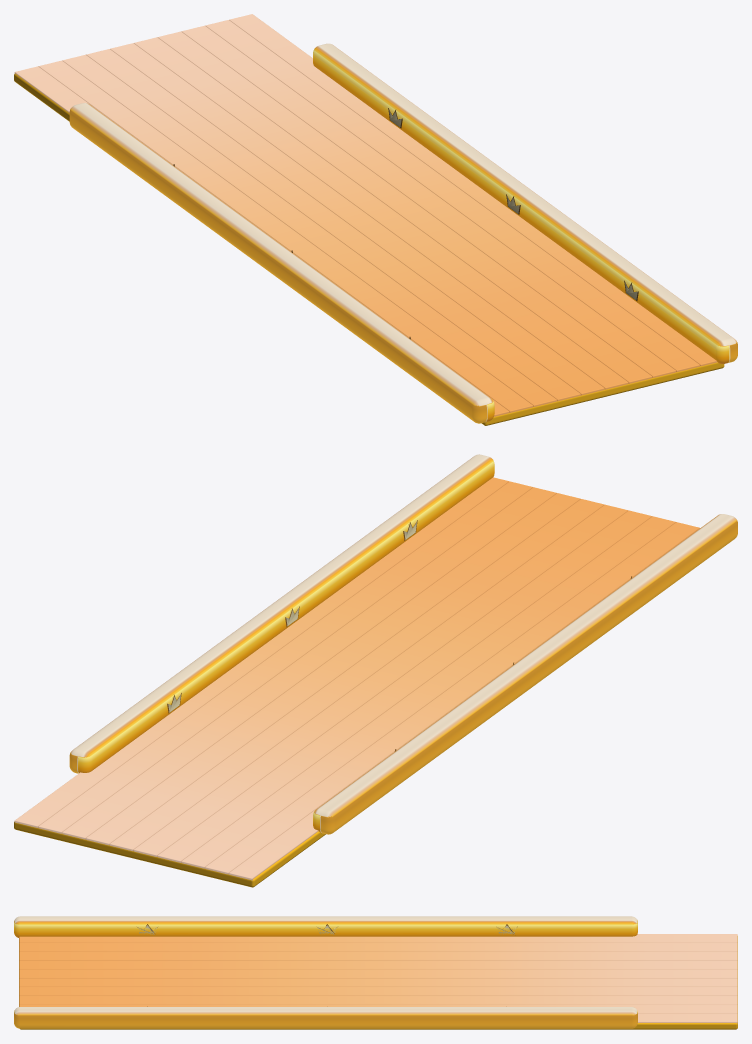
File: platform.glb
3 views of the same model, one above another, from view 1: azimuth 30°, elevation 25°; view 2: azimuth 150°, elevation 25°; view 3: azimuth 270°, elevation 25° (orthographic). The views are drawn at different scales.
Parts seen in each view (by area): view 1: Original_Gold_Ivory_Rail_-1, Original_Gold_Ivory_Rail_1, Artist_Wood_Plank_7, Artist_Wood_Plank_4, Artist_Wood_Plank_5, Artist_Wood_Plank_9, Artist_Wood_Plank_2, Artist_Wood_Plank_6, Artist_Wood_Plank_8, Artist_Wood_Plank_3, Artist_Wood_Plank_10, Deck_Understructure (+1 smaller); view 2: Original_Gold_Ivory_Rail_-1, Original_Gold_Ivory_Rail_1, Artist_Wood_Plank_9, Artist_Wood_Plank_4, Artist_Wood_Plank_7, Artist_Wood_Plank_6, Artist_Wood_Plank_8, Artist_Wood_Plank_3, Artist_Wood_Plank_5, Artist_Wood_Plank_2, Artist_Wood_Plank_10, Deck_Understructure (+1 smaller); view 3: Original_Gold_Ivory_Rail_1, Original_Gold_Ivory_Rail_-1, Artist_Wood_Plank_3, Artist_Wood_Plank_4, Artist_Wood_Plank_5, Artist_Wood_Plank_2, Artist_Wood_Plank_6, Artist_Wood_Plank_7, Artist_Wood_Plank_8, Artist_Wood_Plank_1, Artist_Wood_Plank_9, Deck_Understructure (+1 smaller).
Part boxes in pixels (x1,y1,x2,y2): Original_Gold_Ivory_Rail_-1: (69,103,494,423); Original_Gold_Ivory_Rail_1: (313,43,737,363); Artist_Wood_Plank_7: (157,31,652,383); Artist_Wood_Plank_4: (86,49,580,401); Artist_Wood_Plank_5: (110,43,604,395); Artist_Wood_Plank_9: (205,20,699,372); Artist_Wood_Plank_2: (38,60,533,412); Artist_Wood_Plank_6: (134,37,628,389); Artist_Wood_Plank_8: (181,25,676,377); Artist_Wood_Plank_3: (62,54,557,406); Artist_Wood_Plank_10: (229,14,717,366); Deck_Understructure: (14,73,724,425); Original_Gold_Ivory_Rail_-1: (313,514,737,834); Original_Gold_Ivory_Rail_1: (69,454,494,773); Artist_Wood_Plank_9: (38,481,533,833); Artist_Wood_Plank_4: (157,510,652,862); Artist_Wood_Plank_7: (86,493,580,845); Artist_Wood_Plank_6: (110,499,604,851); Artist_Wood_Plank_8: (62,487,556,839); Artist_Wood_Plank_3: (181,516,675,868); Artist_Wood_Plank_5: (133,504,628,856); Artist_Wood_Plank_2: (205,522,699,874); Artist_Wood_Plank_10: (14,477,509,827); Deck_Understructure: (14,821,325,887); Original_Gold_Ivory_Rail_1: (14,1007,637,1028); Original_Gold_Ivory_Rail_-1: (14,916,637,937); Artist_Wood_Plank_3: (19,951,737,960); Artist_Wood_Plank_4: (19,960,737,969); Artist_Wood_Plank_5: (19,969,737,978); Artist_Wood_Plank_2: (19,942,737,951); Artist_Wood_Plank_6: (19,978,737,986); Artist_Wood_Plank_7: (19,987,737,995); Artist_Wood_Plank_8: (19,996,737,1004); Artist_Wood_Plank_1: (19,934,737,942); Artist_Wood_Plank_9: (19,1004,737,1013); Deck_Understructure: (19,936,737,1029).
Size of the model in its own units: 9.07 by 0.94 by 28.2.
Materials: 5 (1 with a texture image).
